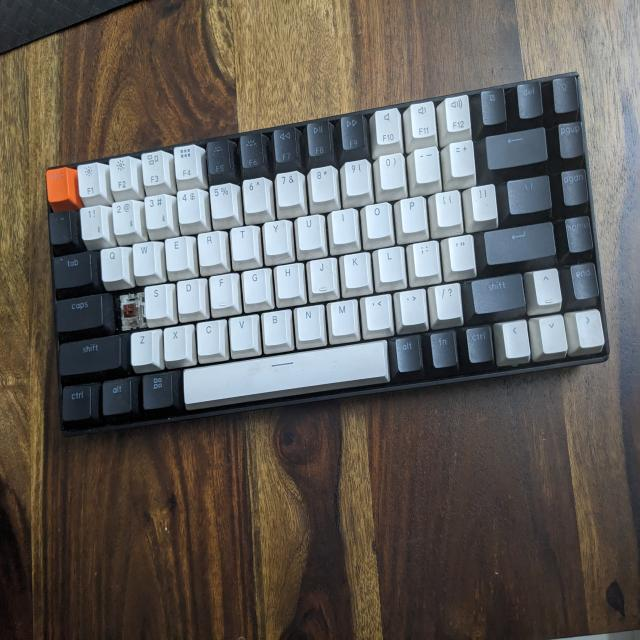C: (120, 288, 146, 328)
